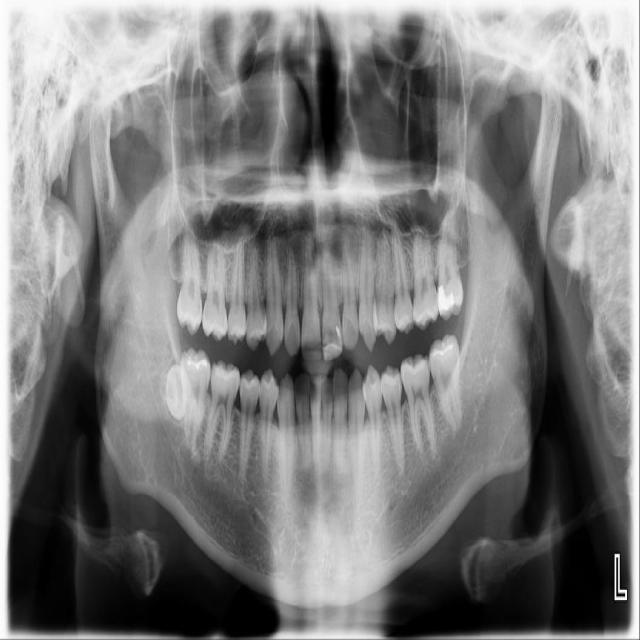52: (427, 333, 461, 388), (435, 272, 467, 322), (410, 284, 442, 330), (180, 347, 211, 391), (322, 307, 343, 360)
73: (588, 560, 594, 580)
BioHorizons Implant: (432, 205, 466, 320)
Blue Sky Bio Implant: (428, 333, 462, 433)
Caries: (172, 220, 204, 337)
Implant: (179, 346, 214, 450)
Keystone Dental Implant: (158, 363, 190, 424)
